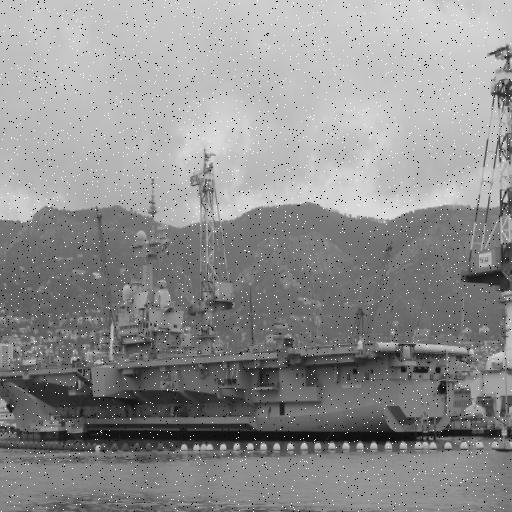Portanaves: (1, 183, 466, 446)
